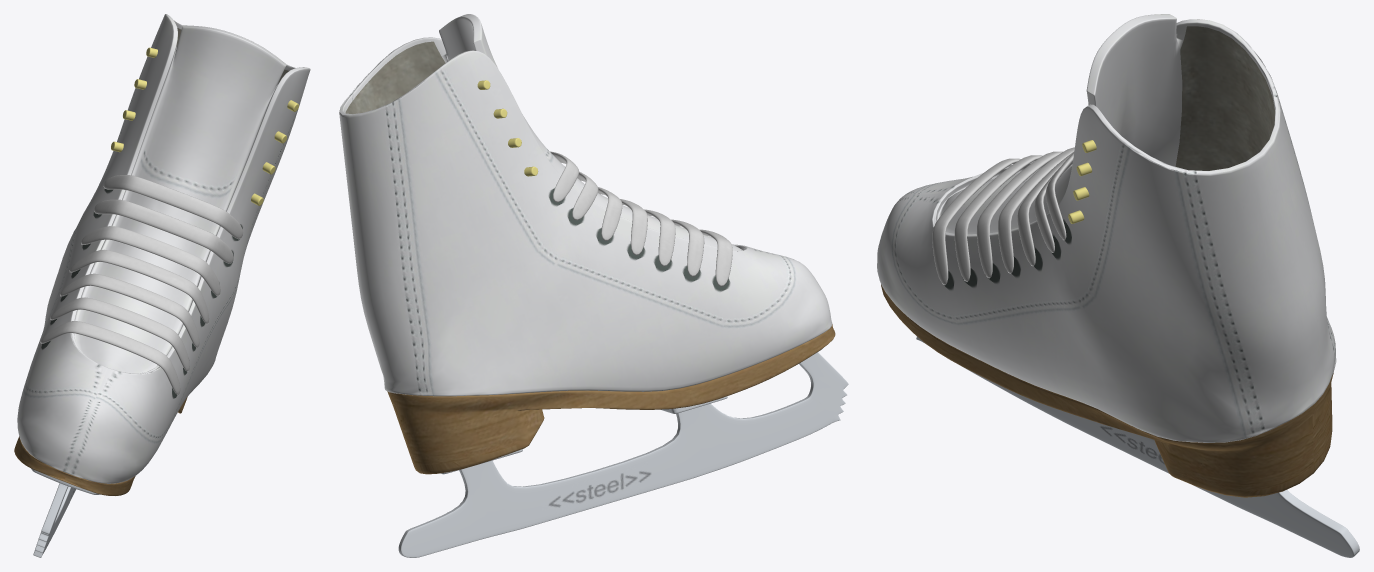
File: myagkyi.gltf
The picture shows the model from 3 angles, left to right: view 1: azimuth 30°, elevation 25°; view 2: azimuth 150°, elevation 25°; view 3: azimuth 270°, elevation 25°; orthographic projection. The views are drawn at different scales.
Parts seen in each view (by area): view 1: 10513_Ice_Skates_L3; view 2: 10513_Ice_Skates_L3; view 3: 10513_Ice_Skates_L3.
Part boxes in pixels (<box>): 10513_Ice_Skates_L3: <box>14,14,310,557</box>; 10513_Ice_Skates_L3: <box>339,14,848,557</box>; 10513_Ice_Skates_L3: <box>877,14,1359,557</box>.
Bounding box in the file's own units: 19.41 × 22.98 × 18.25.
1 material, 1 textured.
